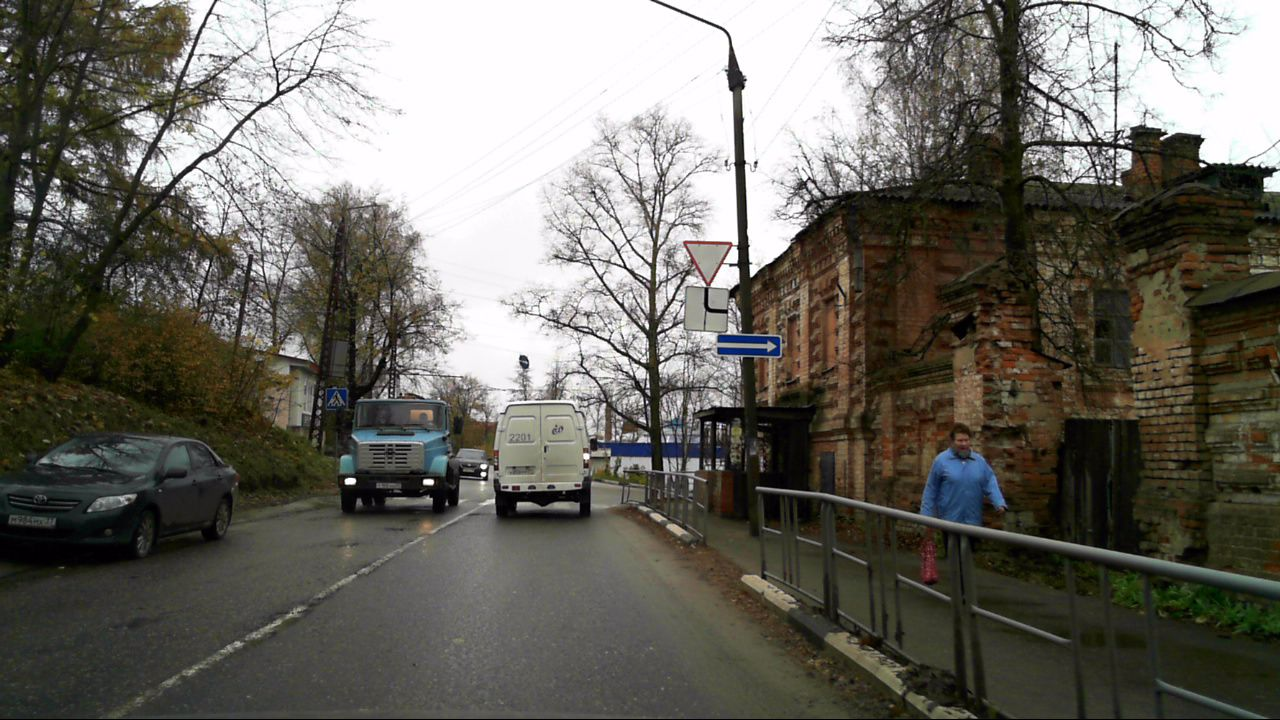One-Way Traffic: (717, 334, 782, 357)
